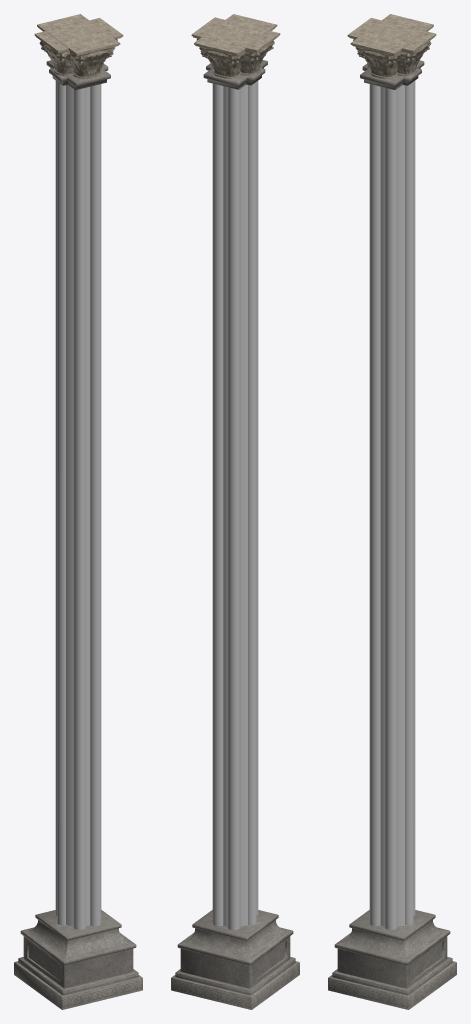
The model's file is SM_long_support_pillar.fbx.
3 renders of one model, left to right at view 1: azimuth 30°, elevation 25°; view 2: azimuth 150°, elevation 25°; view 3: azimuth 330°, elevation 25°, orthographic.
Parts seen in each view (by area): view 1: SM_long_support_pillar_LOD0; view 2: SM_long_support_pillar_LOD0; view 3: SM_long_support_pillar_LOD0.
Boxes of the visible parts, bbox=[...] form: SM_long_support_pillar_LOD0: bbox=[14, 14, 142, 1009]; SM_long_support_pillar_LOD0: bbox=[171, 14, 299, 1009]; SM_long_support_pillar_LOD0: bbox=[328, 14, 456, 1009].
Bounding box in the file's own units: 105 × 109 × 1178.
